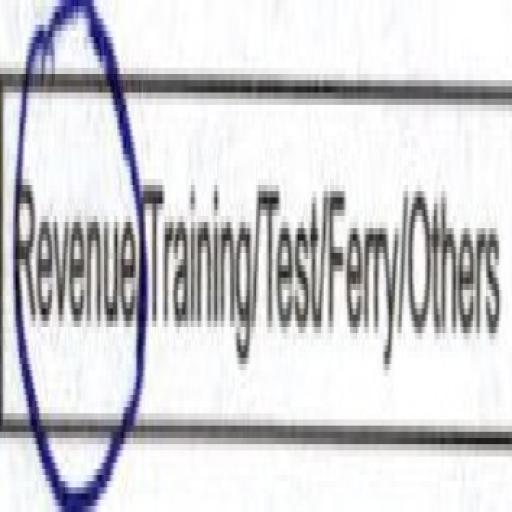check: (2, 21, 141, 512)
